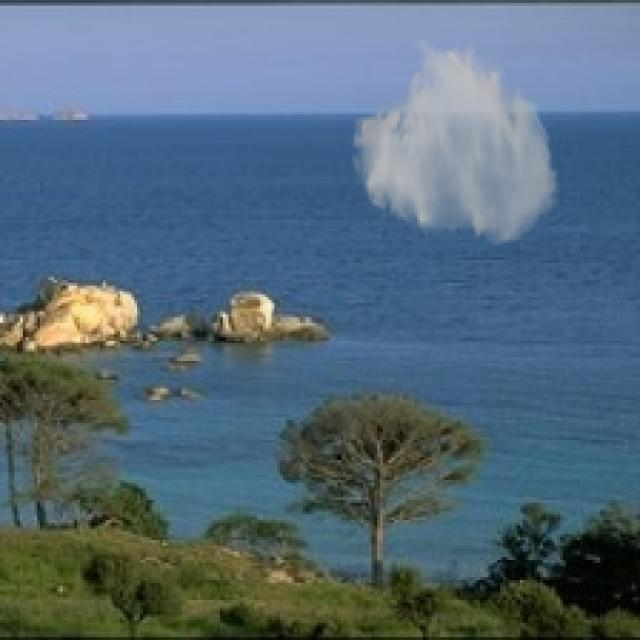smoke: (349, 34, 560, 249)
